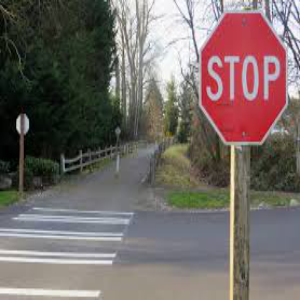STOP_SIGN: (198, 10, 288, 145)
